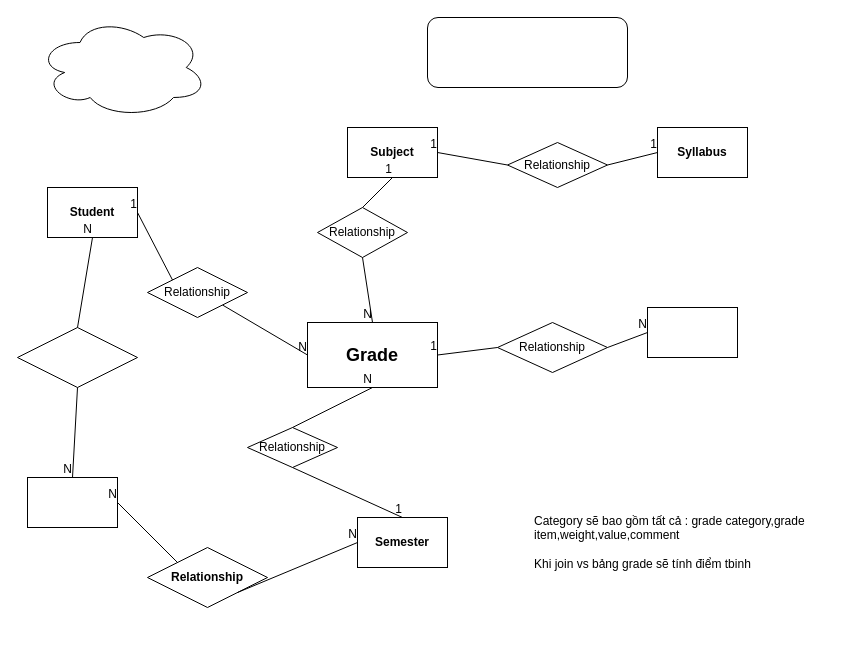
Some shapes in this 845 by 645 pixel diagram are drawn without their labels. Here are the shapes that lost their labels. From the top down, the centre of each, then its label:
At point (122, 67): "Relations".
At point (527, 52): "Cấu trúc sườn cơ bản".
At point (692, 332): "Category".
At point (77, 357): "st_gr".
At point (72, 502): "Group".
